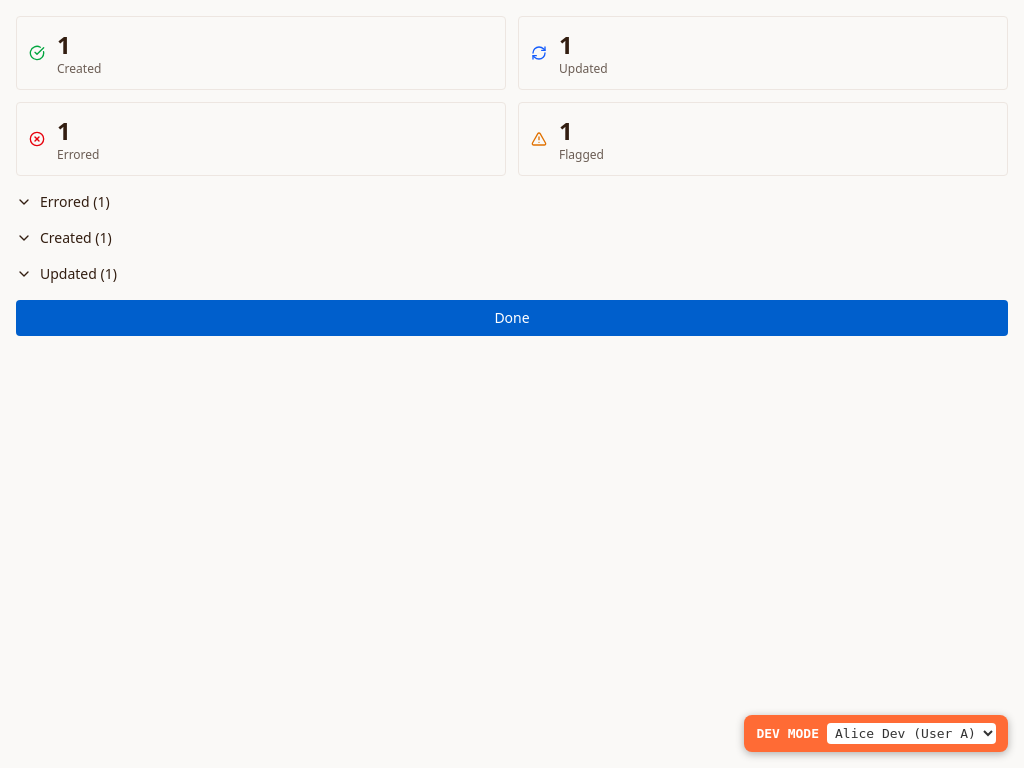
Test: ImportSummary › should expand errored rows to show detail
Click the button "Errored (1)" at x=65, y=202, box [16, 192, 1008, 212]
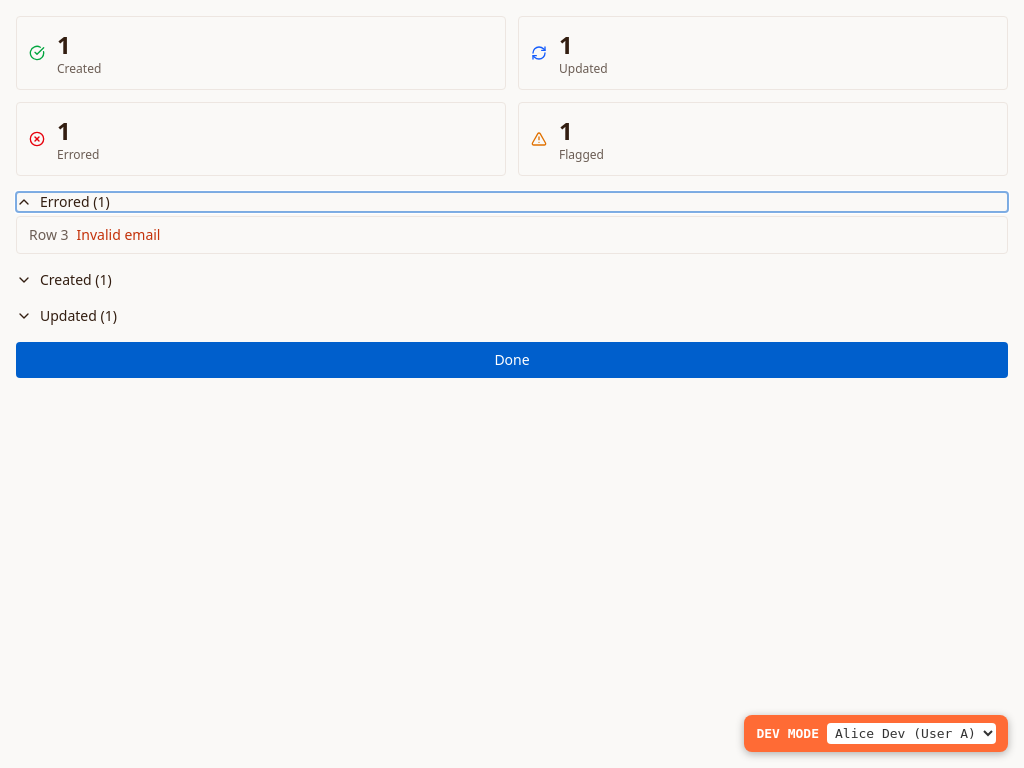
Expected: the text "Row 3" is shown, [29, 225, 69, 244]
Expected: the text "Invalid email" is shown, [77, 225, 160, 244]
